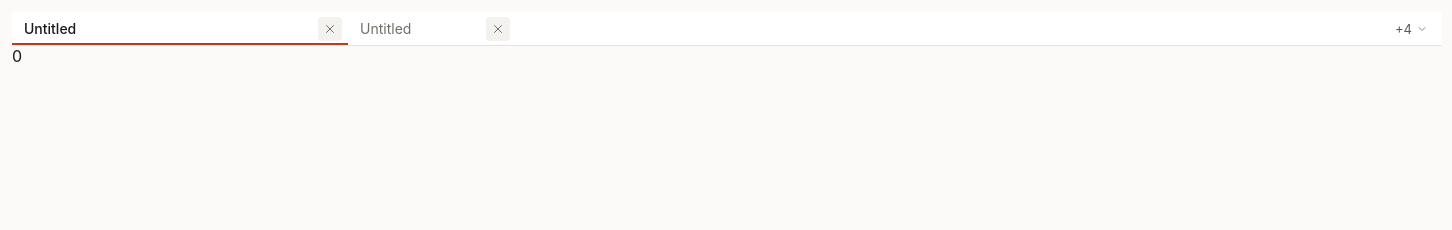
it: TabBar › shows every tab that fits and sends the rest to the overflow menu
Expected: the number of list items is 2, x1=12 y1=12 x2=348 y2=45; x1=348 y1=12 x2=516 y2=45
Click the button named "4 more open notes" at (1412, 28), box x1=1389 y1=12 x2=1434 y2=44
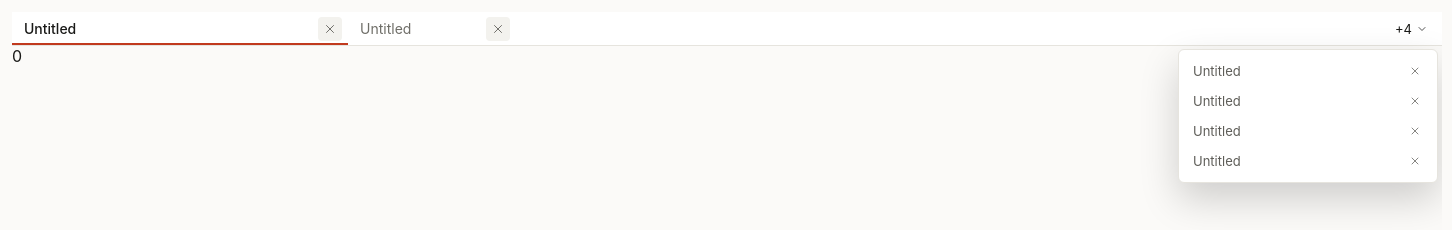
Result: the number of menu items is 4 at x1=1185 y1=56 x2=1431 y2=86; x1=1185 y1=86 x2=1431 y2=116; x1=1185 y1=116 x2=1431 y2=146; x1=1185 y1=146 x2=1431 y2=176
Note: The row's open action is the button inside the menuitem row (close rides beside it).
Click the 1st button with class "tab-overflow-open" at (1294, 71), box x1=1185 y1=56 x2=1403 y2=86
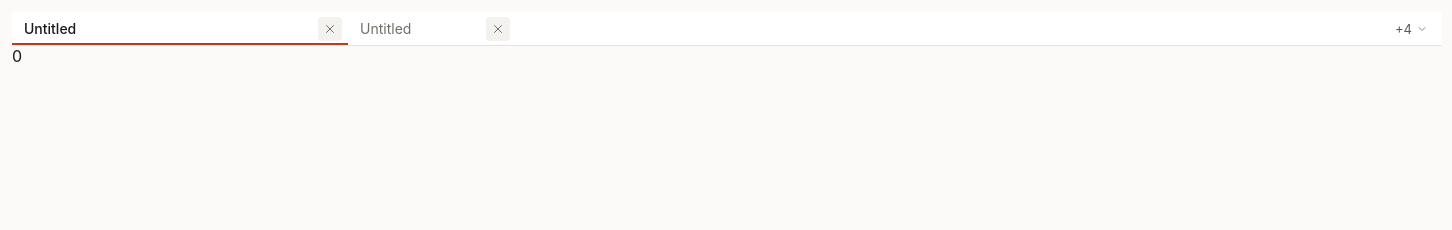
Result: the menu item is gone
